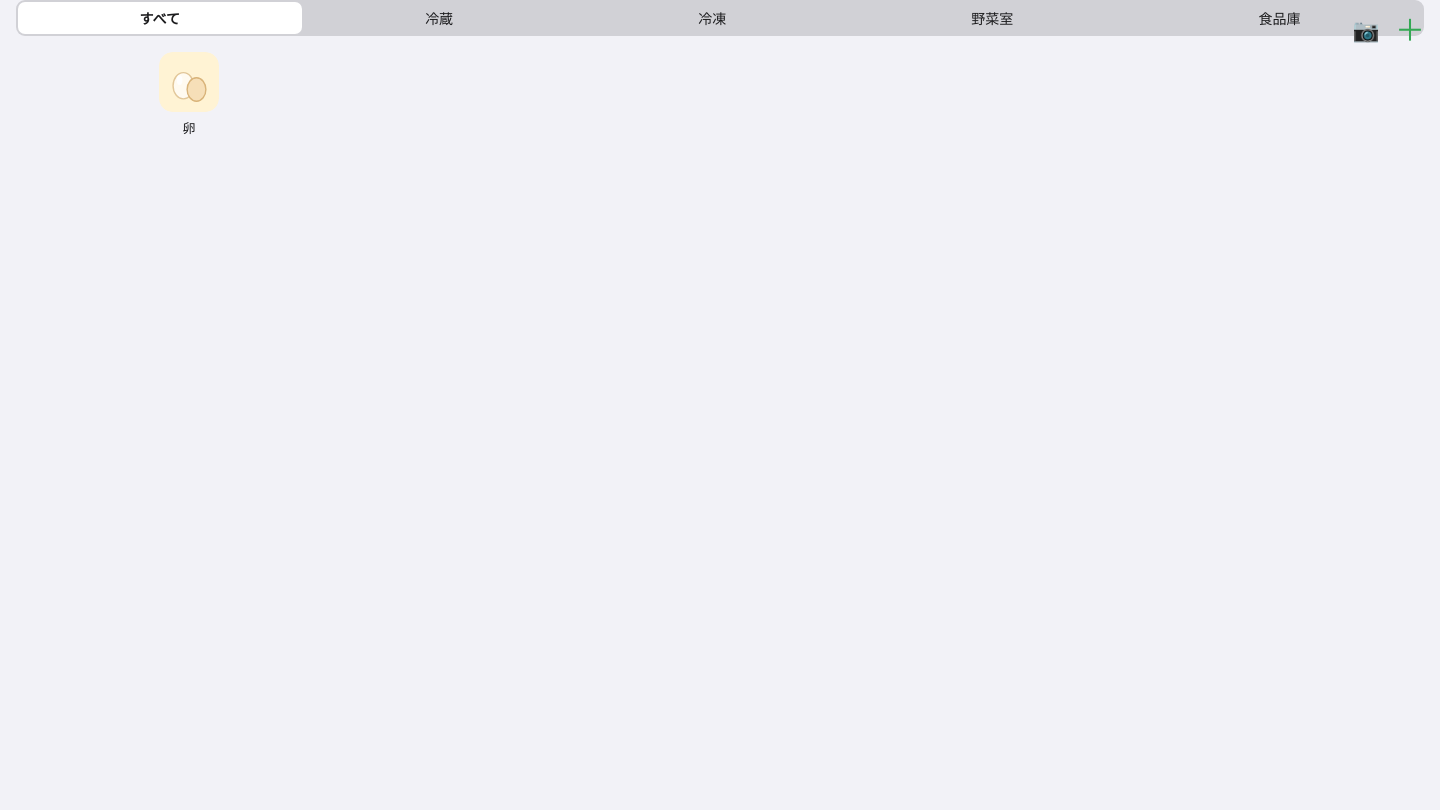
Test: InventoryScreen ホーム画面風の並び（D-56） › 食材をタップすると編集画面が開く
Click the button "卵" at (189, 94), box top-left (16, 52), bottom-right (362, 137)
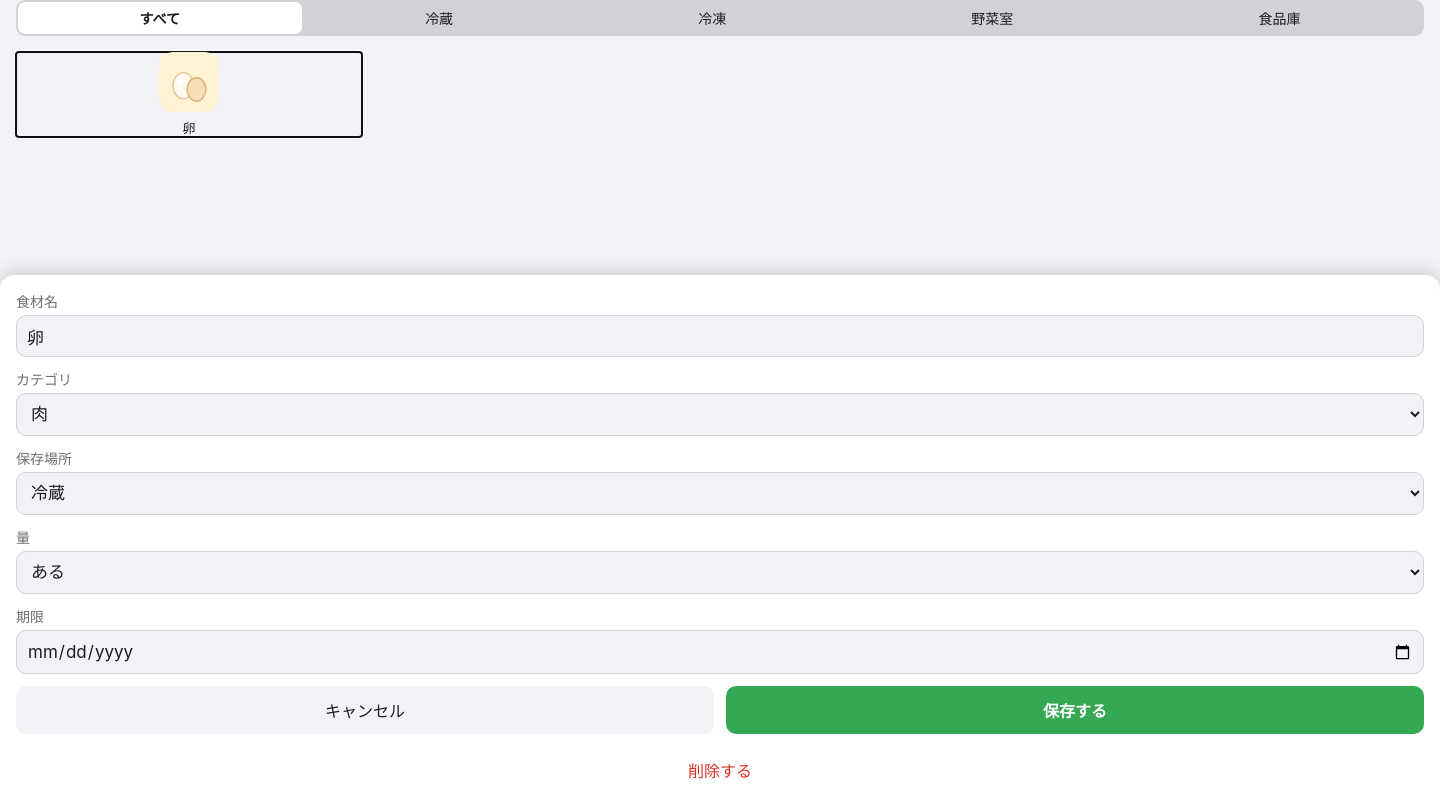
Expected: the form named "食材を編集" is shown
